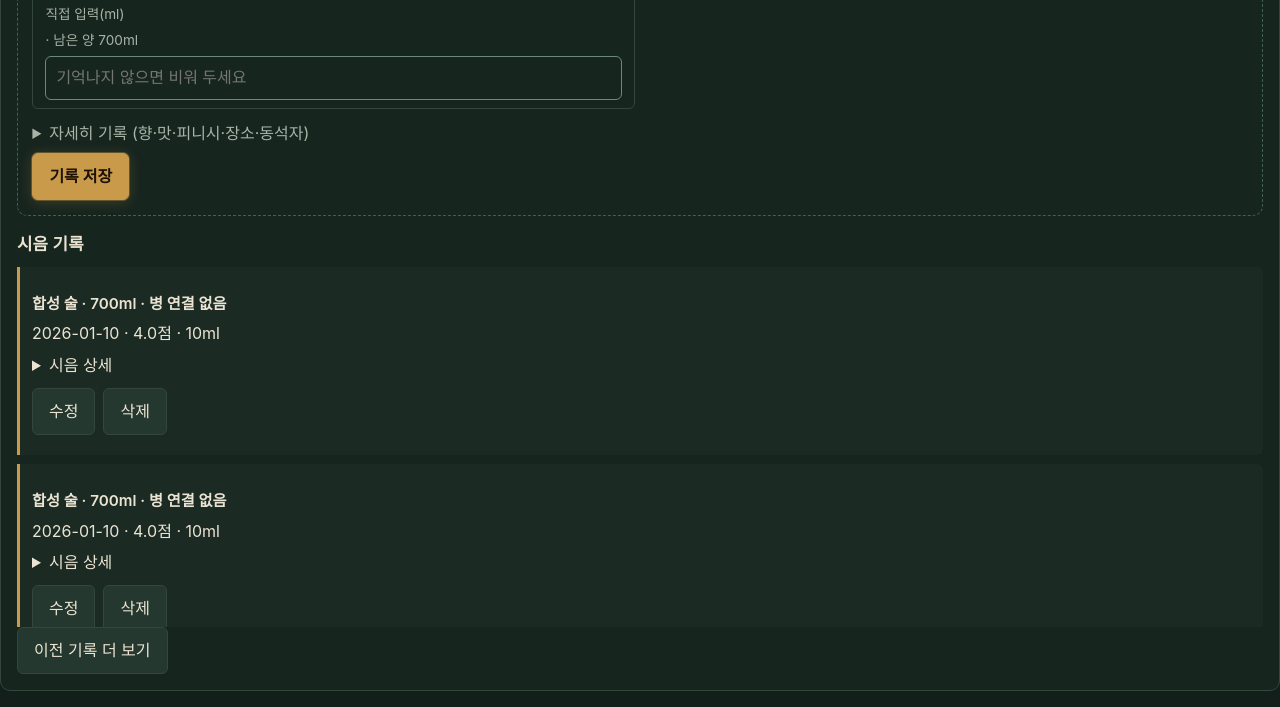
Test: 서버가 삭제를 거부하면 현재 이력·페이지·요약을 유지하고 오류를 알린다
(page scrolled)
What coordinates should you click on to do the following:
click the button "이전 기록 더 보기"
I would click on:
 (92, 650)
Its box is [17,627,168,674].
(page scrolled)
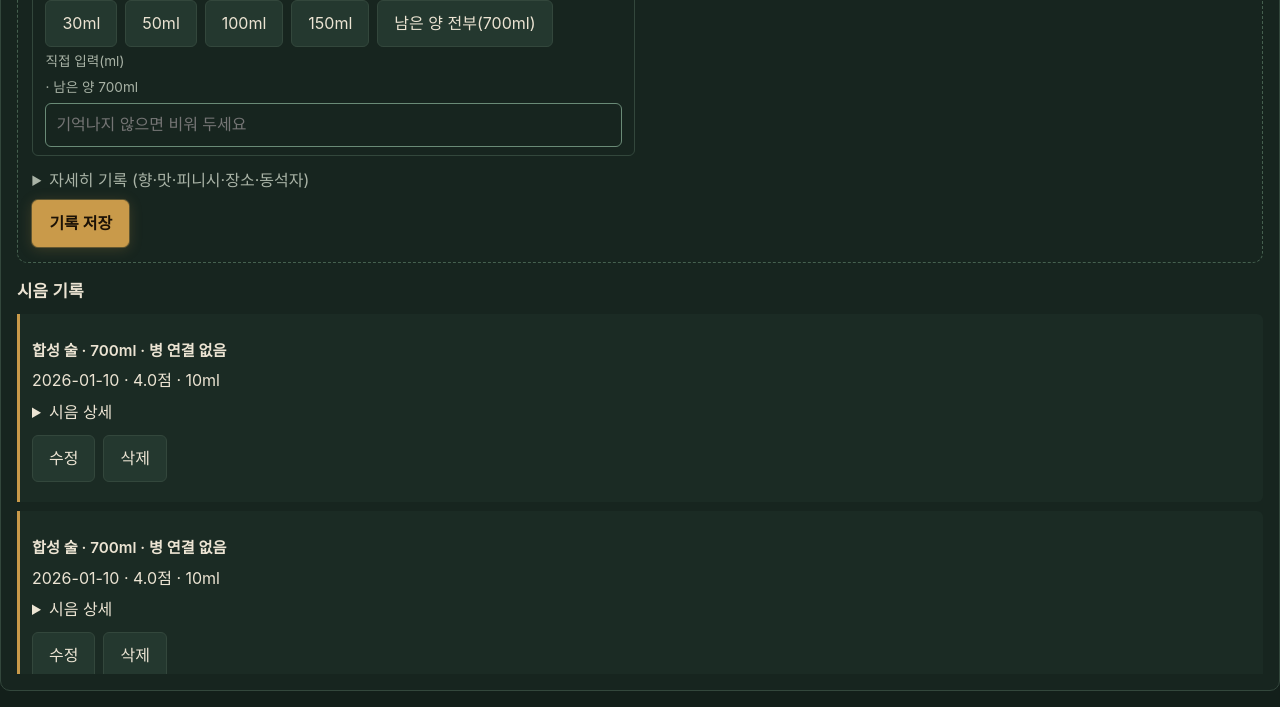
What coordinates should you click on to do the following:
click the 1st button "삭제"
I would click on:
 (135, 459)
Its box is [104,435,167,482].
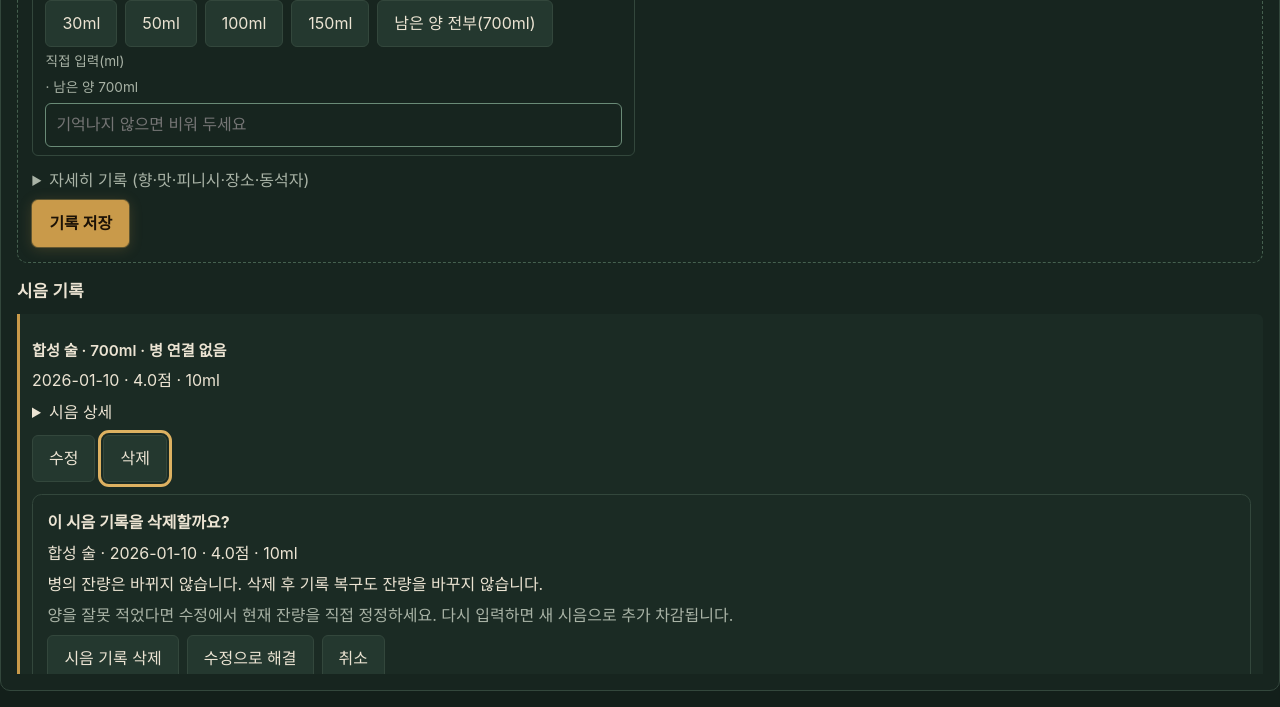
What coordinates should you click on to do the following:
click the button "시음 기록 삭제"
I would click on:
 (113, 658)
Its box is [47,634,179,682].
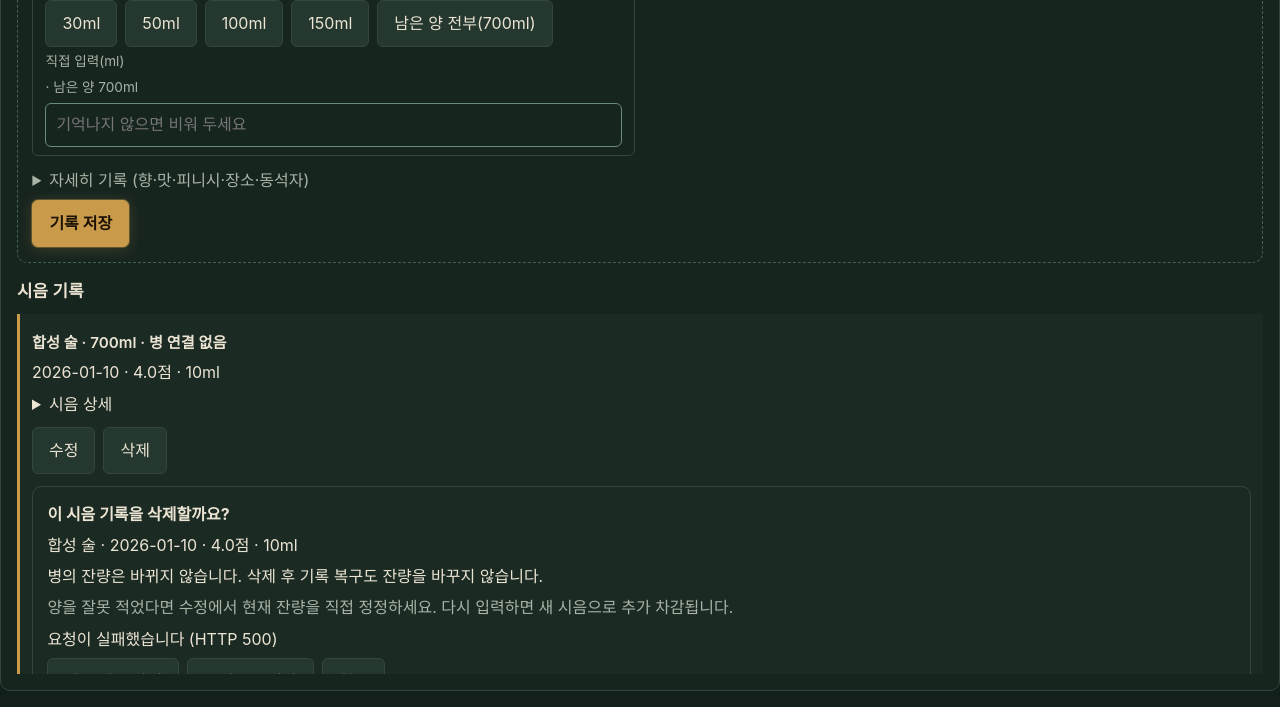
Expected: the message shows "HTTP 500", [47,628,278,648]
